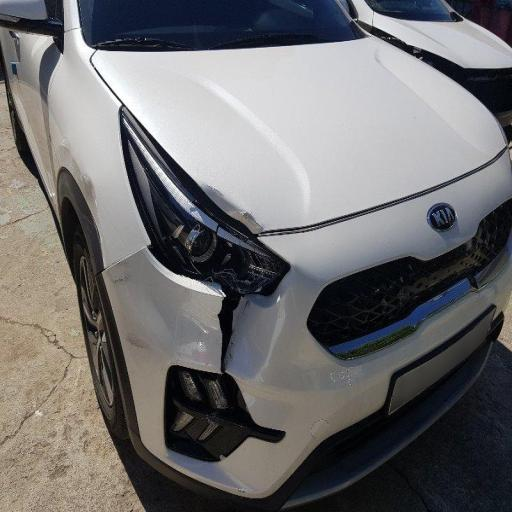broken: (143, 148, 293, 444)
